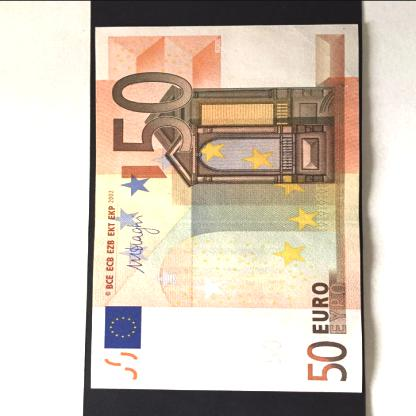euro_banknote: (46, 72, 414, 343)
